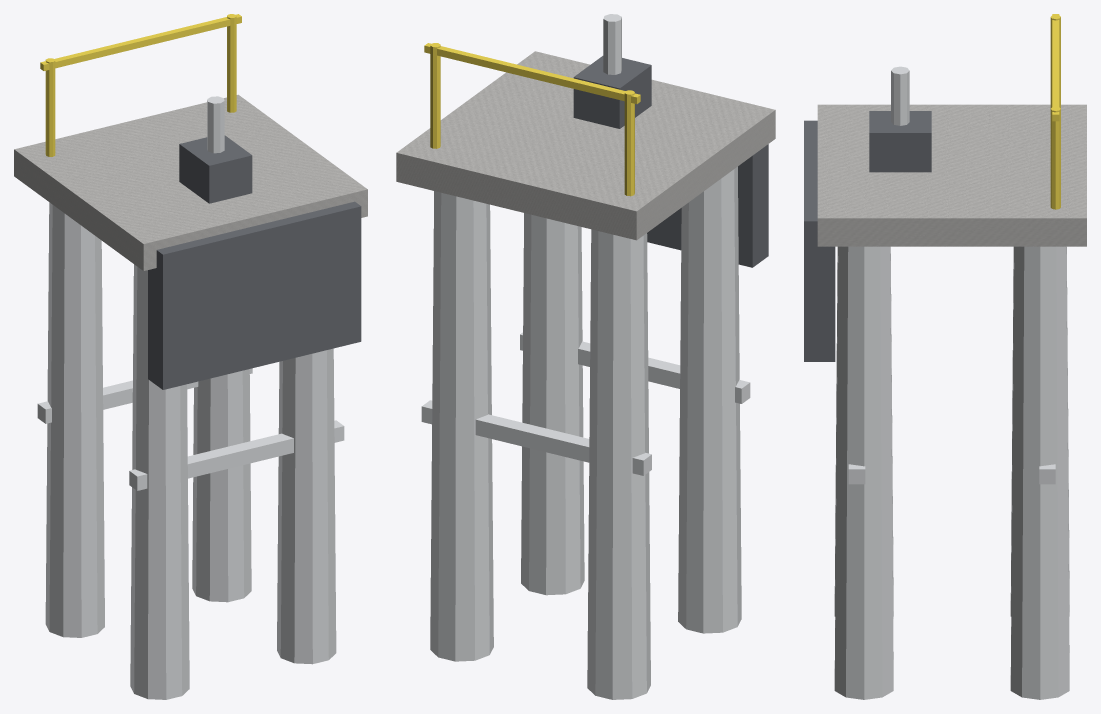
Rendered from ferry-terminal-and-harbour-crossing-ferry-terminal-and-caf04004__35628.glb.
3 renders of one model, left to right at view 1: azimuth 30°, elevation 25°; view 2: azimuth 150°, elevation 25°; view 3: azimuth 270°, elevation 25°, orthographic. The views are drawn at different scales.
Visible parts, largest first — view 1: ferry-terminal-and-harbour-crossing-dolphin-mooring-pile; view 2: ferry-terminal-and-harbour-crossing-dolphin-mooring-pile; view 3: ferry-terminal-and-harbour-crossing-dolphin-mooring-pile.
Boxes of the visible parts, left/top/right/bottom form: ferry-terminal-and-harbour-crossing-dolphin-mooring-pile: left=14, top=14, right=367, bottom=699; ferry-terminal-and-harbour-crossing-dolphin-mooring-pile: left=396, top=14, right=775, bottom=699; ferry-terminal-and-harbour-crossing-dolphin-mooring-pile: left=804, top=14, right=1086, bottom=699.
Size of the model in its own units: 2.6 by 6.25 by 2.73.
4 materials, 1 textured.
